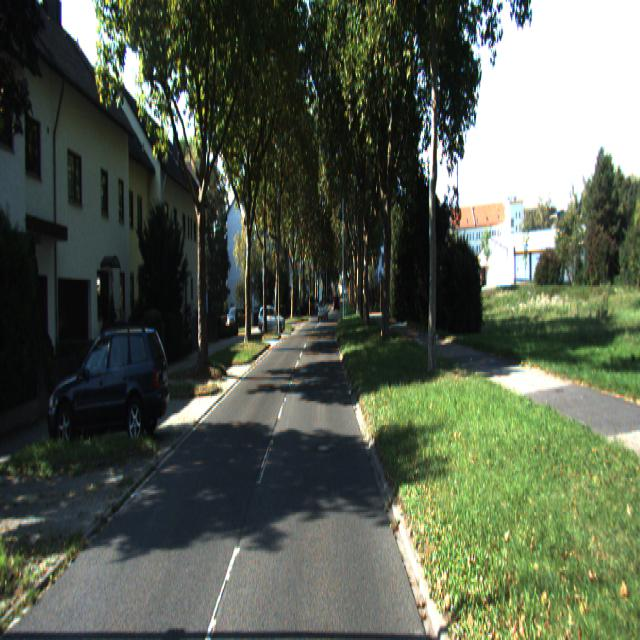Car: (46, 319, 174, 451), (257, 303, 286, 332)
